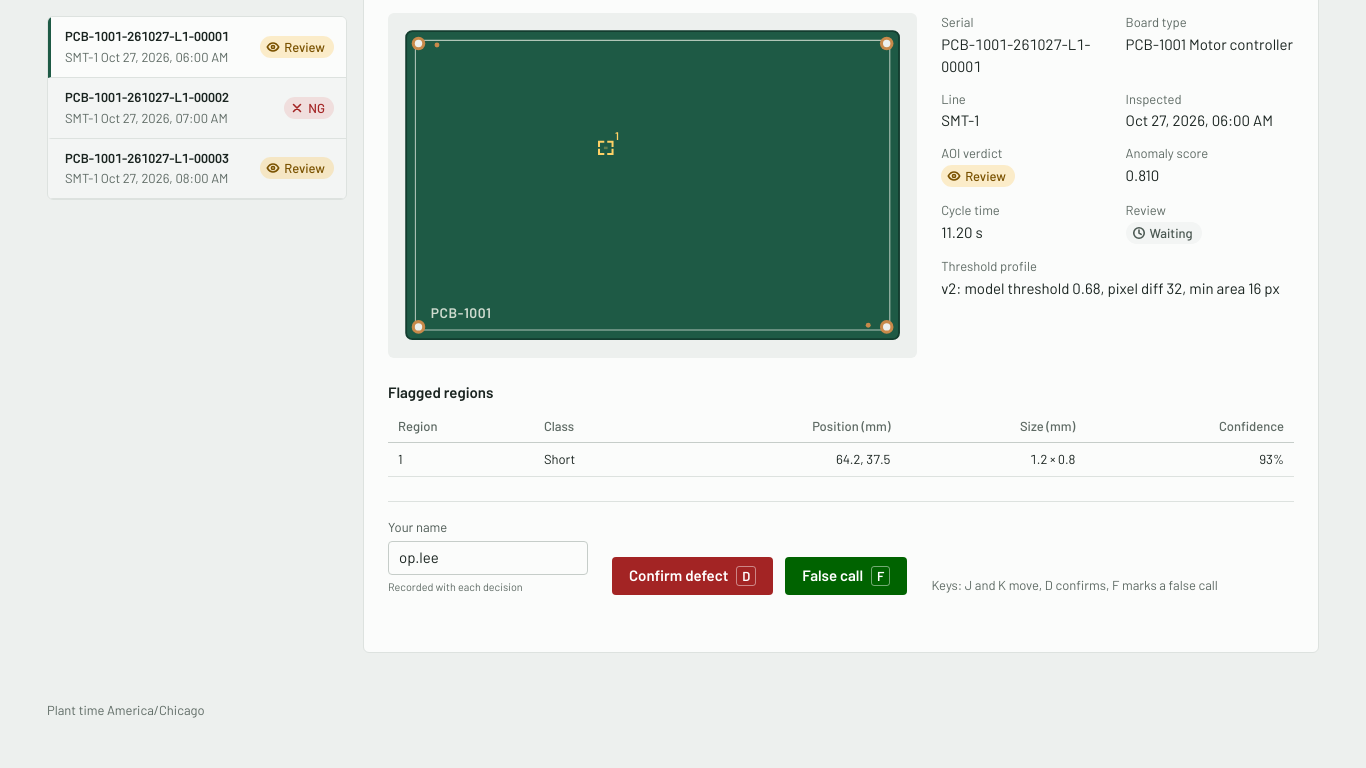
Test case: Review queue › tells the operator when someone else got there first
(page scrolled)
Expected: the text "Flagged regions" is shown, top-left (388, 383), bottom-right (493, 401)
Click the button "Confirm defect D".
click(693, 576)  # box top-left (612, 557), bottom-right (773, 595)
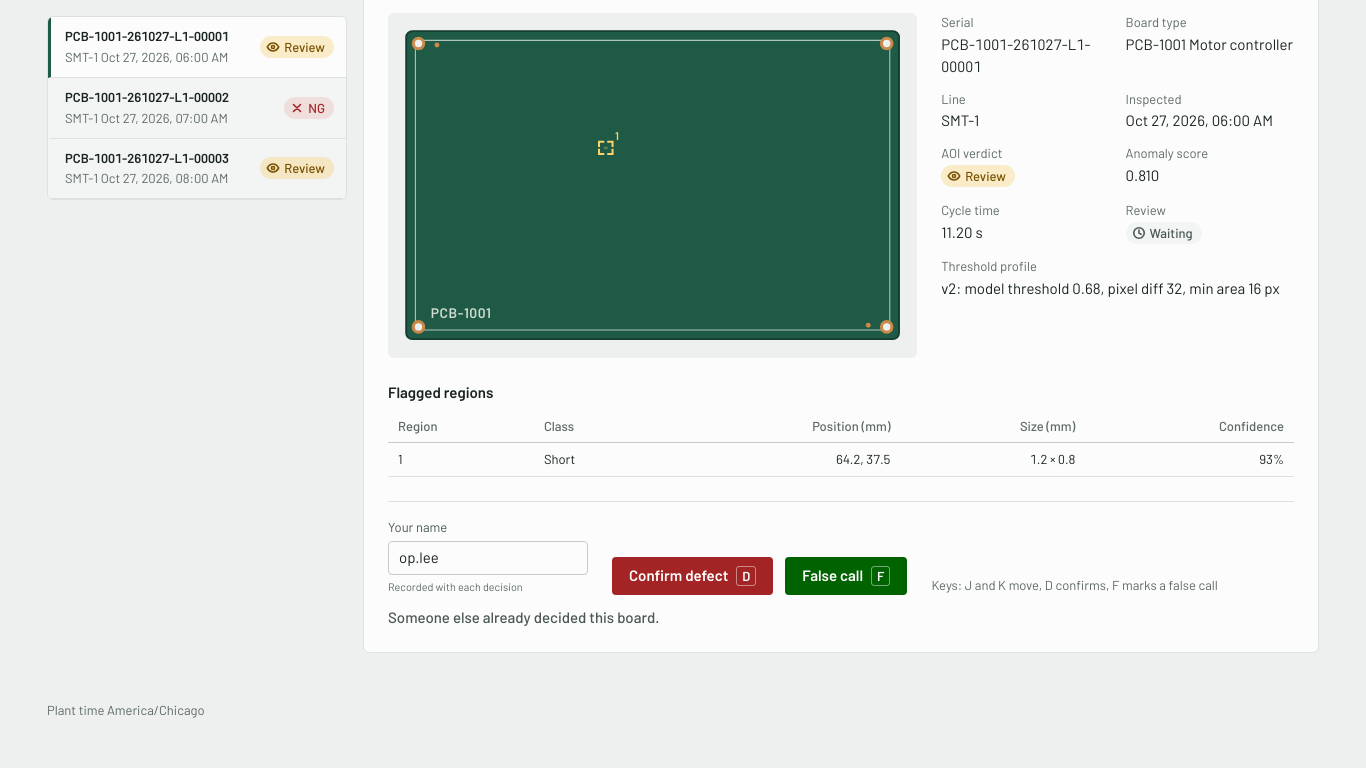
Now the text "Someone else already decided this board." is shown, box top-left (388, 608), bottom-right (659, 626)
